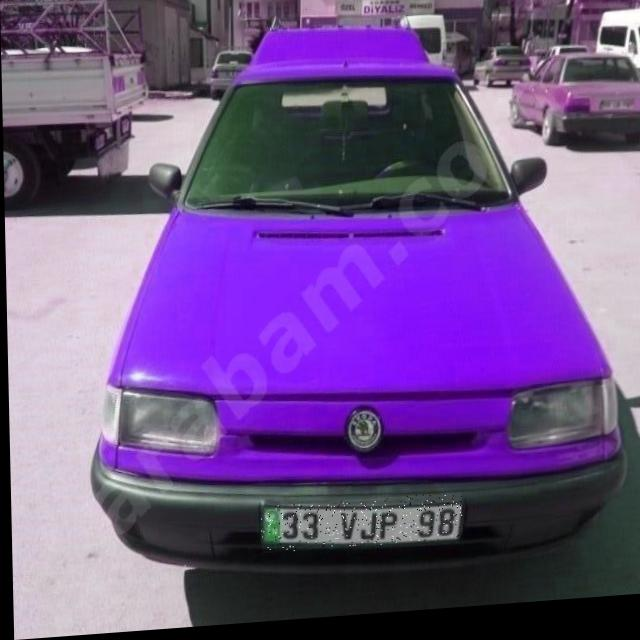license_plate: (258, 499, 460, 557)
